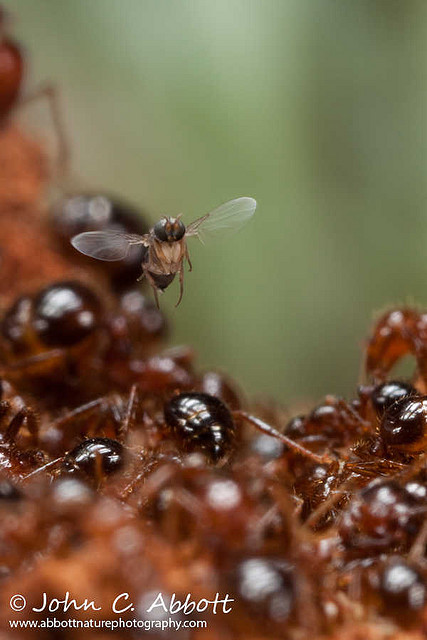phorid fly: (72, 194, 259, 310)
